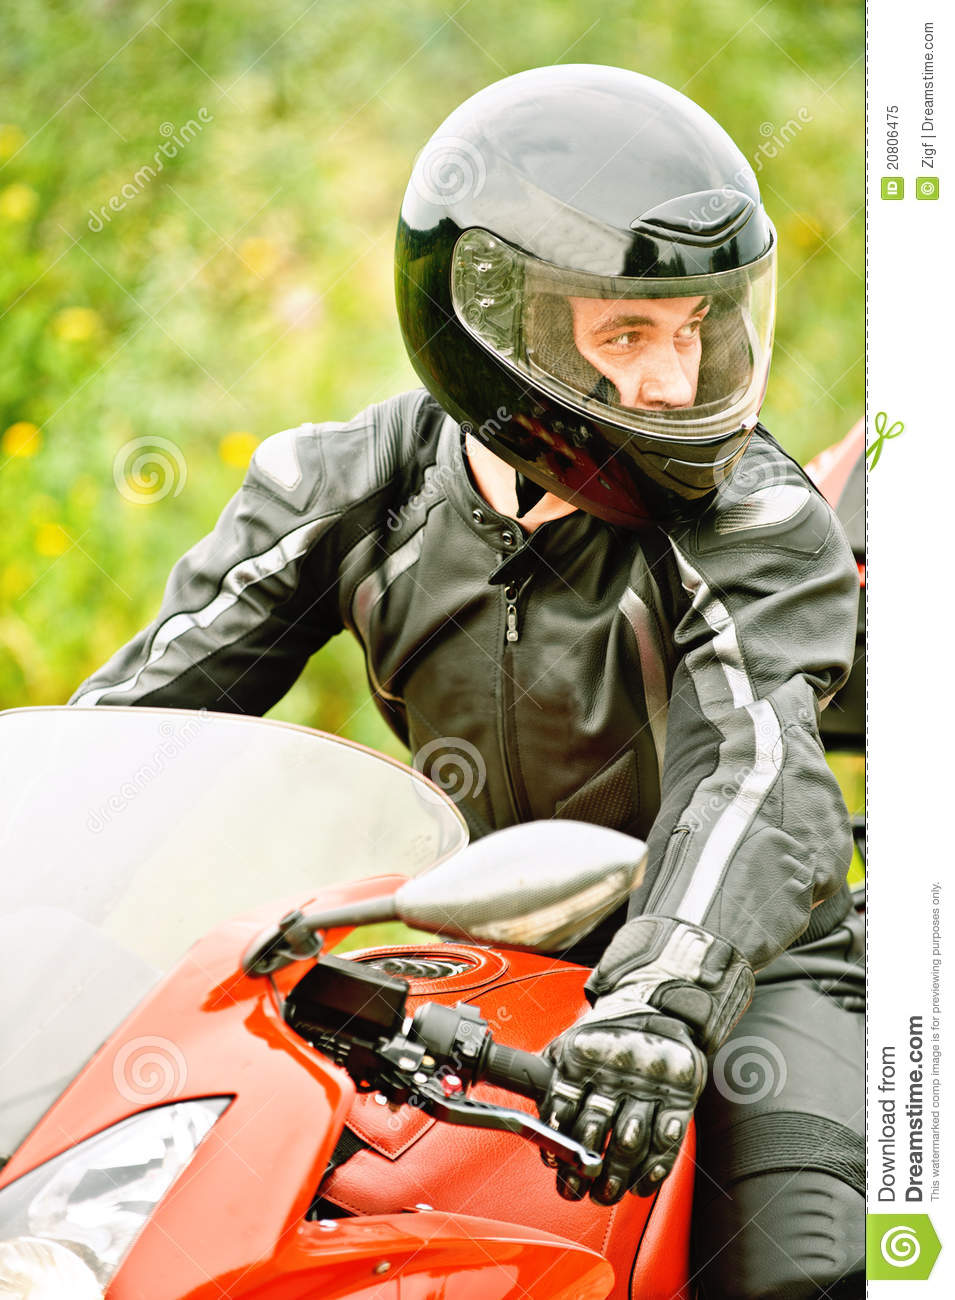helmet: (391, 81, 783, 519)
